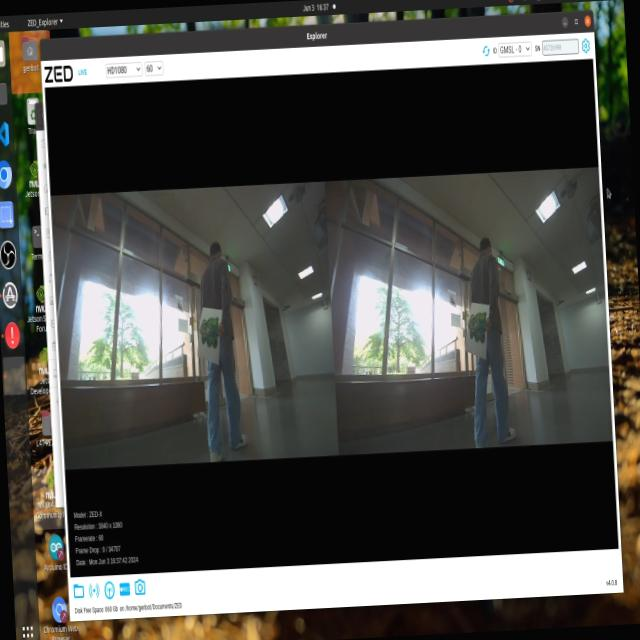green: (468, 298, 490, 351), (200, 306, 218, 346)
